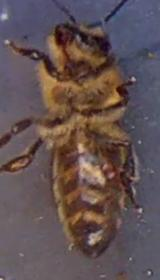varroa_mite: (90, 150, 126, 184)
